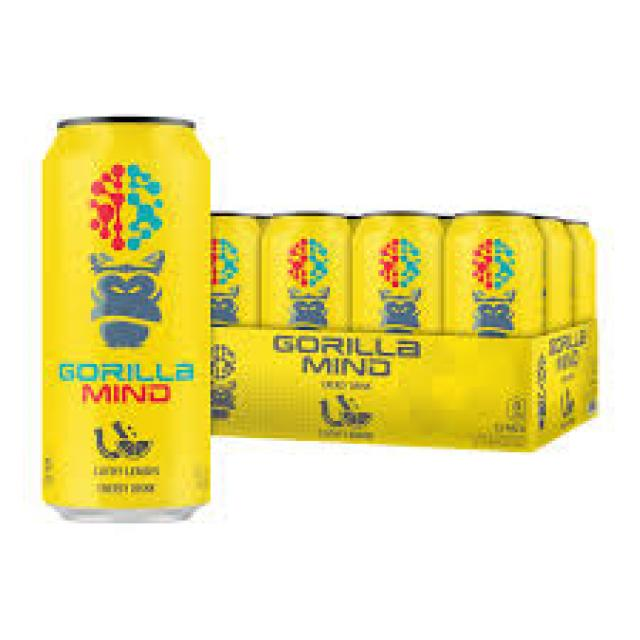Cans: (28, 108, 219, 523)
